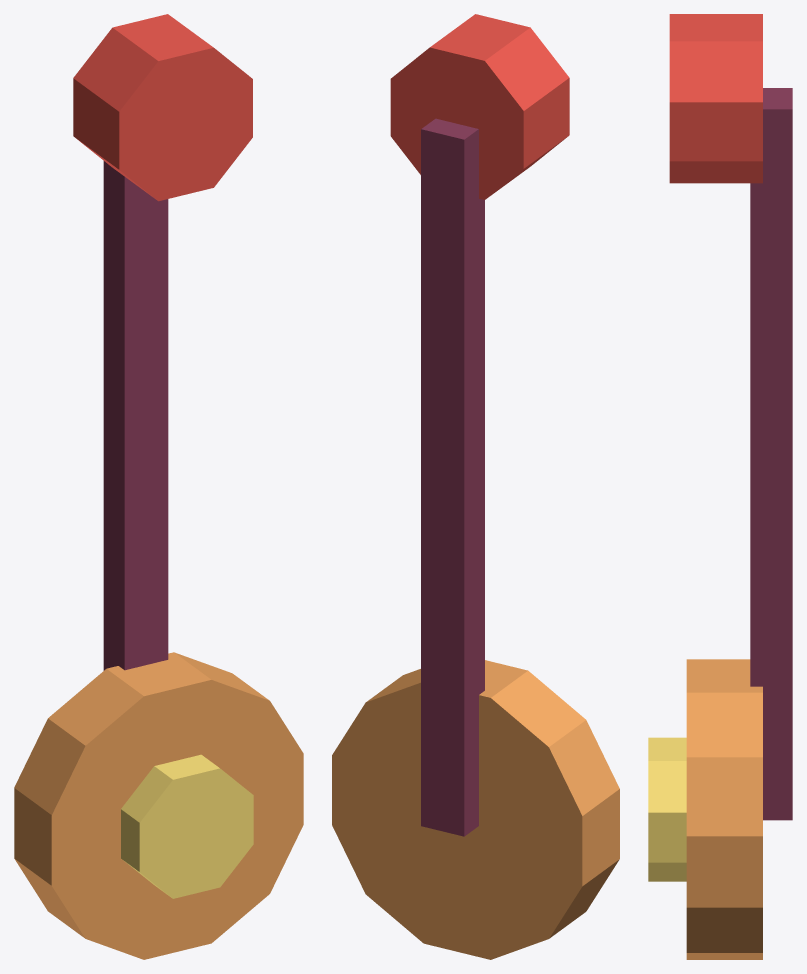
File: pendulum.glb
3 views of the same model, side by side, from view 1: azimuth 30°, elevation 25°; view 2: azimuth 150°, elevation 25°; view 3: azimuth 270°, elevation 25° (orthographic). The views are drawn at different scales.
Visible parts, largest first — view 1: Bob, Rod, Hub, Boss; view 2: Bob, Rod, Hub; view 3: Rod, Bob, Hub, Boss.
Part boxes in pixels (<box>): Bob: <box>14,652,303,959</box>; Rod: <box>103,161,168,670</box>; Hub: <box>73,14,252,201</box>; Boss: <box>121,754,253,898</box>; Bob: <box>332,660,619,959</box>; Rod: <box>421,118,484,836</box>; Hub: <box>390,14,569,199</box>; Rod: <box>750,88,792,820</box>; Bob: <box>686,659,762,959</box>; Hub: <box>669,14,762,183</box>; Boss: <box>648,737,686,881</box>.
Size of the model in its own units: 0.6955 by 2.38 by 0.34.
